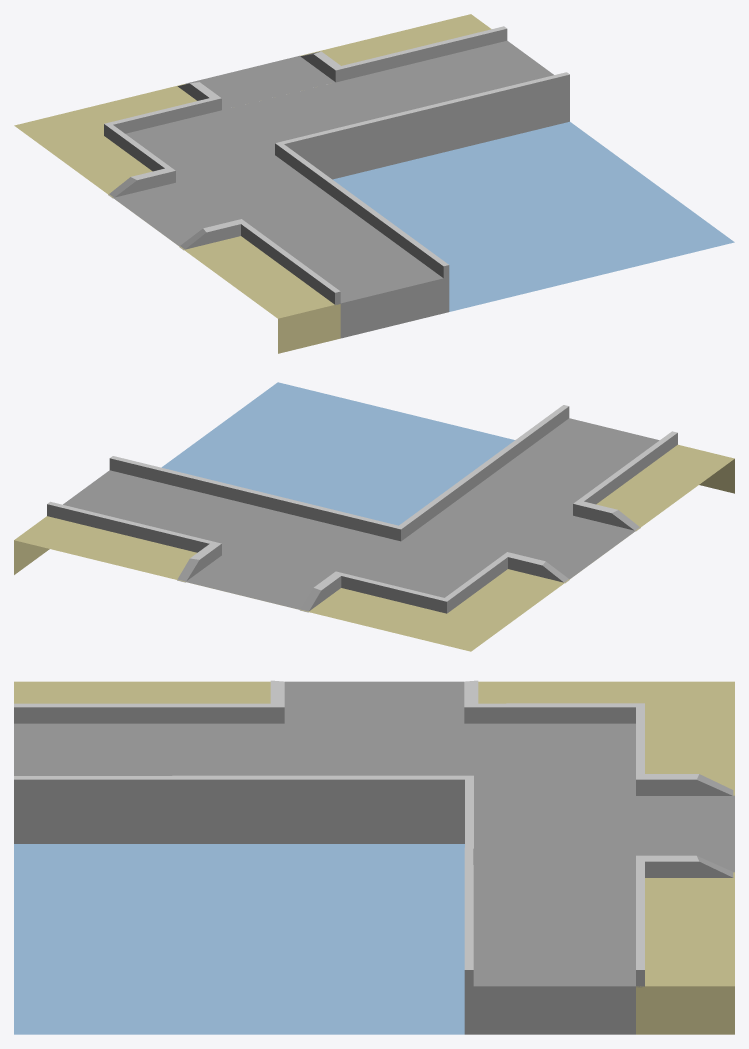
Rendered from port_tile_2x2_002.fbx.
The picture shows the model from 3 angles, top to bottom: view 1: azimuth 30°, elevation 25°; view 2: azimuth 150°, elevation 25°; view 3: azimuth 270°, elevation 25°; orthographic projection. The views are drawn at different scales.
Parts seen in each view (by area): view 1: port_tile_2x2_002; view 2: port_tile_2x2_002; view 3: port_tile_2x2_002.
Boxes of the visible parts, bbox=[...] form: port_tile_2x2_002: bbox=[14, 14, 734, 353]; port_tile_2x2_002: bbox=[14, 382, 734, 651]; port_tile_2x2_002: bbox=[14, 680, 734, 1034].
Size of the model in its own units: 1600 by 158 by 1600.
